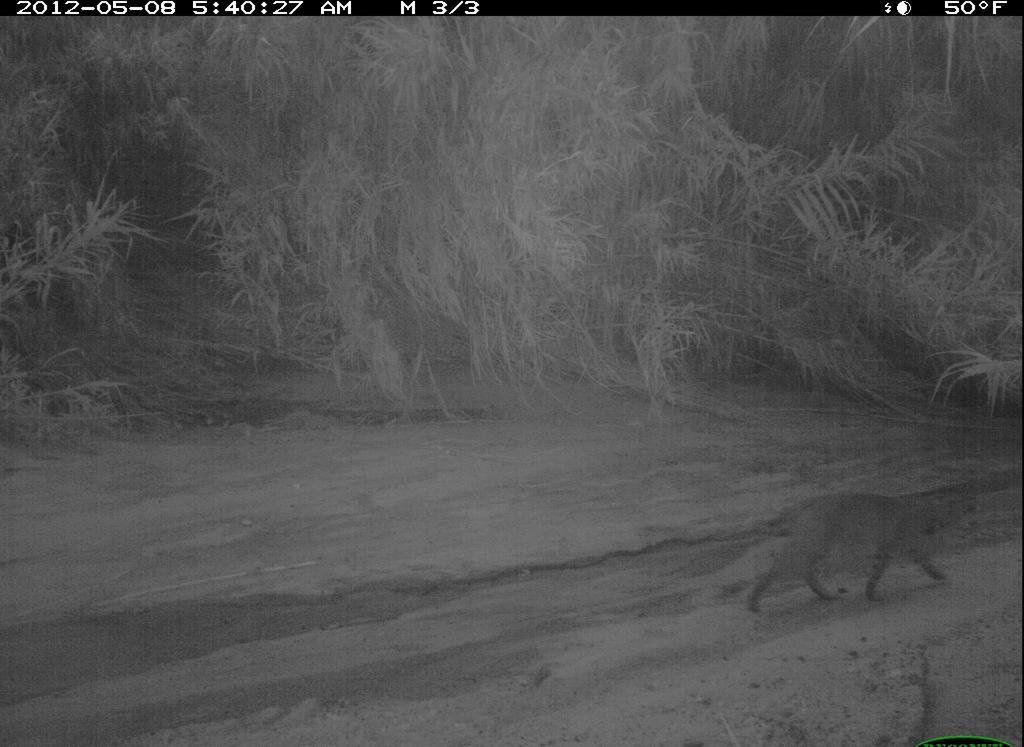bobcat: (731, 472, 998, 621)
